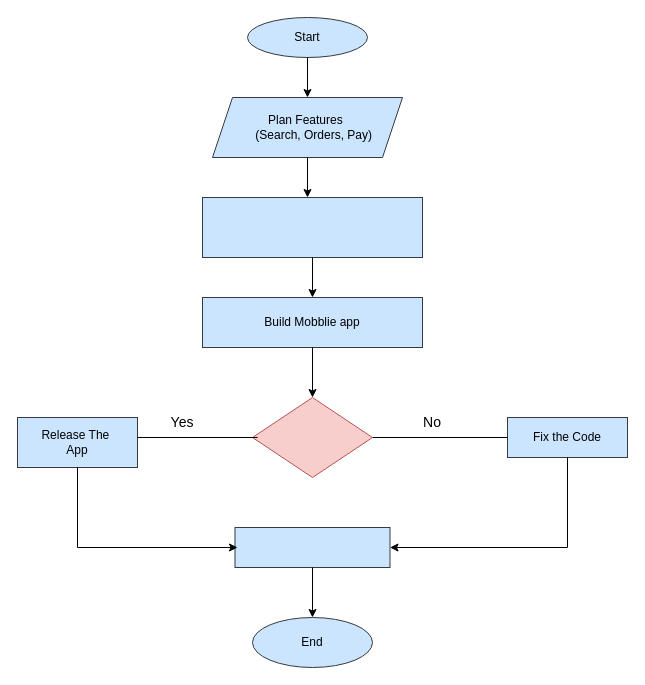
The diagram is 645 pixels wide and 685 high, and some of its shapes have lost their labels. The box of each missing label's shape, as (x1, y1, x2, y2) in pixels:
Code (Services: Menu, Cart, Orders, Delivery): (202, 196, 422, 258)
Deploy the App: (234, 526, 390, 568)
Test Passed: (252, 396, 372, 478)
